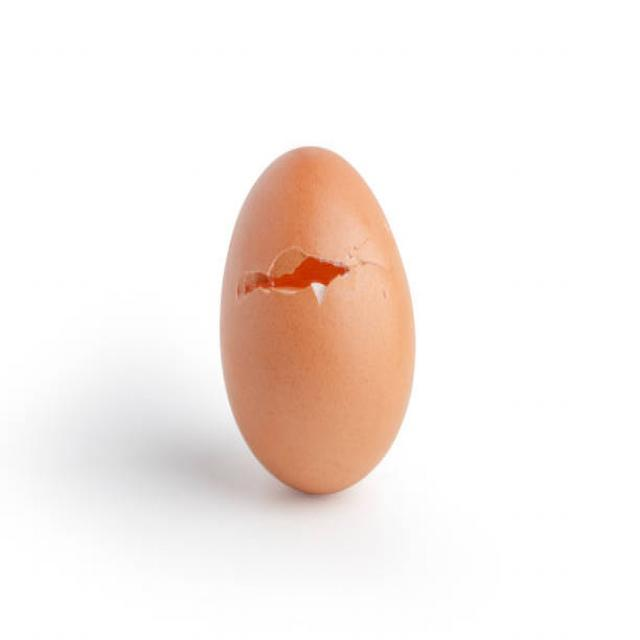biodegradable: (205, 130, 433, 510)
